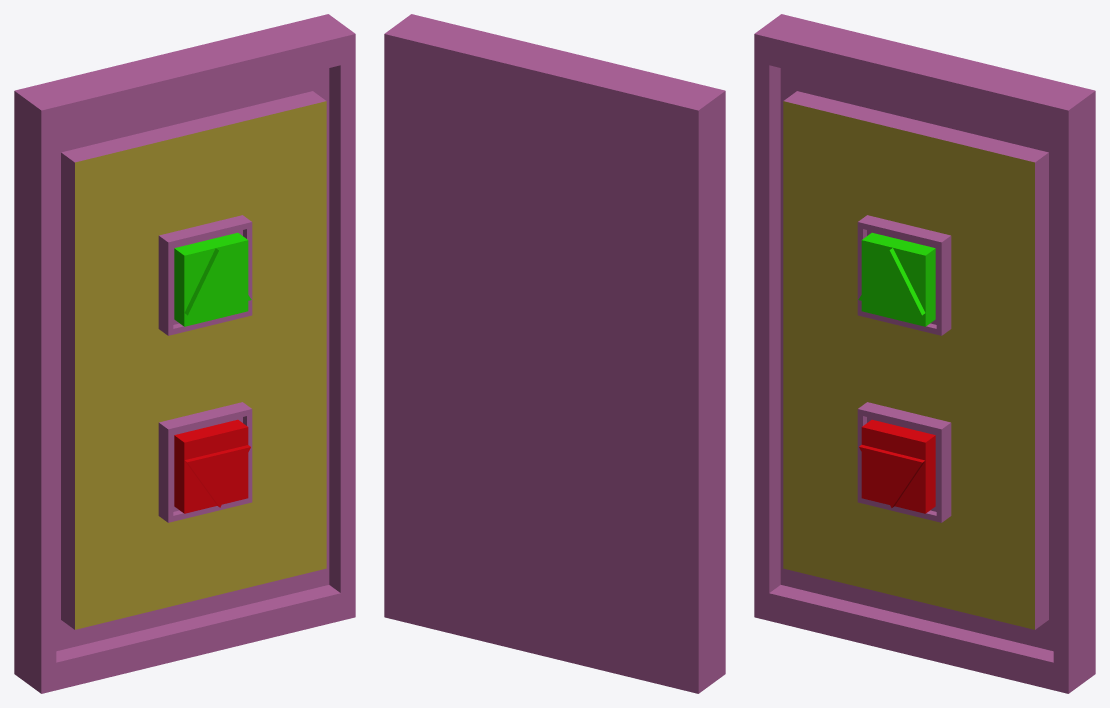
The model's file is Elevator Button.fbx.
The picture shows the model from 3 angles, left to right: view 1: azimuth 30°, elevation 25°; view 2: azimuth 150°, elevation 25°; view 3: azimuth 330°, elevation 25°; orthographic projection.
Visible parts, largest first — view 1: Elevator Button; view 2: Elevator Button; view 3: Elevator Button.
Part boxes in pixels (x1=…): Elevator Button: x1=14, y1=14, x2=355, y2=693; Elevator Button: x1=384, y1=14, x2=725, y2=693; Elevator Button: x1=754, y1=14, x2=1095, y2=693.
Bounding box in the file's own units: 26.61 × 47.2 × 7.09.
